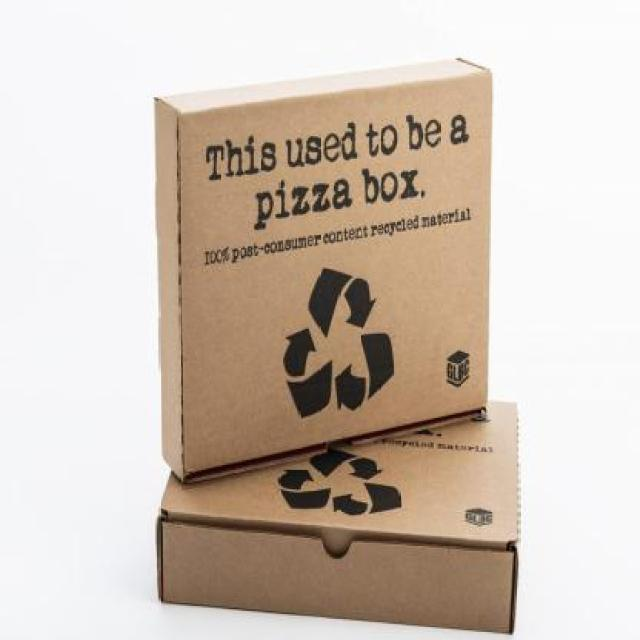box: (135, 34, 520, 488), (150, 389, 532, 640)
